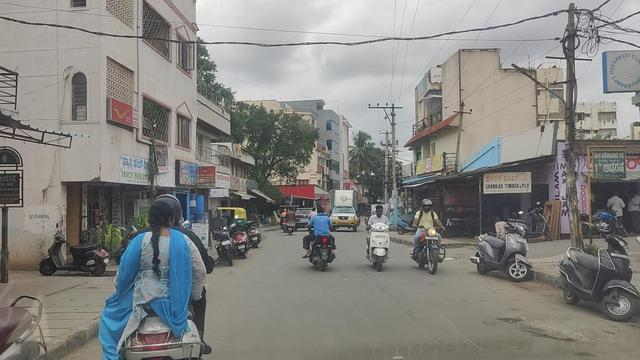LMV: (131, 188, 225, 360), (309, 203, 339, 280), (366, 204, 390, 271)
RoadDamages: (494, 301, 571, 345)
